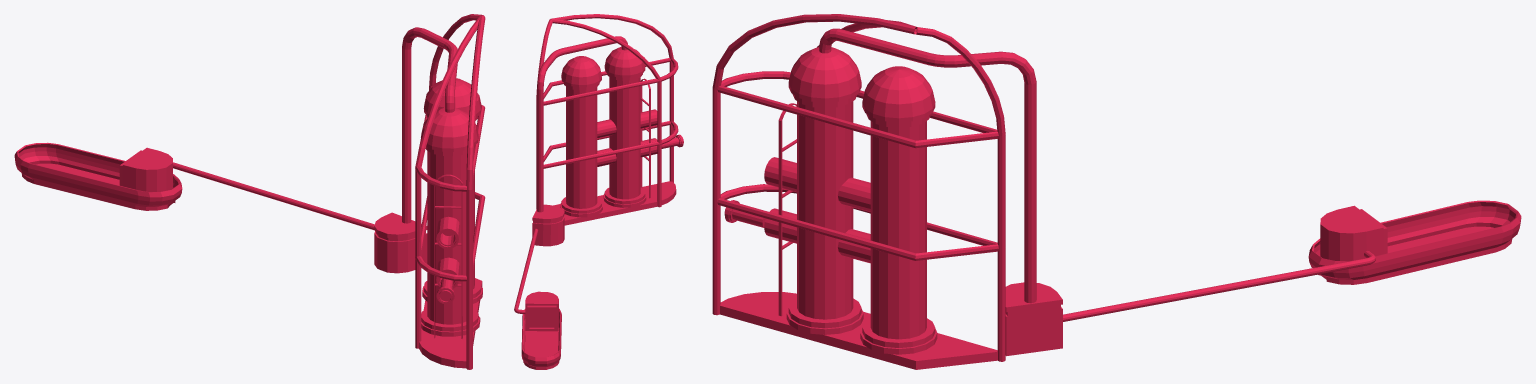
Rendered from Coisasetals.fbx.
3 views of the same model, side by side, from view 1: azimuth 30°, elevation 25°; view 2: azimuth 150°, elevation 25°; view 3: azimuth 270°, elevation 25° (orthographic). The views are drawn at different scales.
Visible parts, largest first — view 1: Cylinder.100, Cylinder.094, Plane.001, Cube.097, battery, Cube.098, baterry02, Sphere.008, cylinders, Plane.004, Cube.094, Sphere.009 (+6 smaller); view 2: Cylinder.099, Cylinder.100, Plane.001, Cylinder.094, baterry02, cylinders, Cube.098, battery, Cube.097, Cube.094, Cube.095, Sphere.009 (+7 smaller); view 3: Cylinder.099, Cylinder.100, Cylinder.094, Plane.001, cylinders, Cube.097, battery, Cube.095, Cube.094, Cube.096, baterry02, Sphere.009 (+5 smaller).
Part boxes in pixels (x1=…): Cylinder.100: x1=421, y1=136, x2=480, y2=336; Cylinder.094: x1=14, y1=142, x2=182, y2=210; Plane.001: x1=402, y1=27, x2=457, y2=223; Cube.097: x1=466, y1=15, x2=485, y2=369; battery: x1=374, y1=212, x2=427, y2=273; Cube.098: x1=415, y1=15, x2=481, y2=348; baterry02: x1=119, y1=147, x2=172, y2=191; Sphere.008: x1=421, y1=107, x2=478, y2=148; cylinders: x1=419, y1=278, x2=482, y2=368; Plane.004: x1=173, y1=162, x2=374, y2=230; Cube.094: x1=415, y1=192, x2=485, y2=281; Sphere.009: x1=423, y1=78, x2=481, y2=114; Cylinder.099: x1=560, y1=76, x2=602, y2=217; Cylinder.100: x1=603, y1=67, x2=646, y2=207; Plane.001: x1=537, y1=36, x2=627, y2=212; Cylinder.094: x1=521, y1=308, x2=561, y2=369; baterry02: x1=525, y1=291, x2=558, y2=331; cylinders: x1=553, y1=181, x2=676, y2=225; Cube.098: x1=551, y1=19, x2=661, y2=207; battery: x1=532, y1=204, x2=564, y2=246; Cube.097: x1=551, y1=14, x2=673, y2=182; Cube.094: x1=543, y1=121, x2=678, y2=168; Cube.095: x1=543, y1=58, x2=678, y2=105; Sphere.009: x1=561, y1=56, x2=601, y2=84; Cylinder.099: x1=860, y1=103, x2=937, y2=354; Cylinder.100: x1=786, y1=84, x2=863, y2=334; Cylinder.094: x1=1308, y1=200, x2=1521, y2=284; Plane.001: x1=819, y1=28, x2=1036, y2=303; cylinders: x1=720, y1=292, x2=997, y2=369; Cube.097: x1=712, y1=14, x2=917, y2=315; battery: x1=1005, y1=282, x2=1062, y2=356; Cube.095: x1=717, y1=71, x2=1005, y2=148; Cube.094: x1=717, y1=184, x2=1005, y2=260; Cube.096: x1=914, y1=27, x2=1005, y2=361; baterry02: x1=1320, y1=205, x2=1387, y2=261; Sphere.009: x1=862, y1=66, x2=935, y2=118.
Size of the model in its own units: 170 by 185 by 396.
